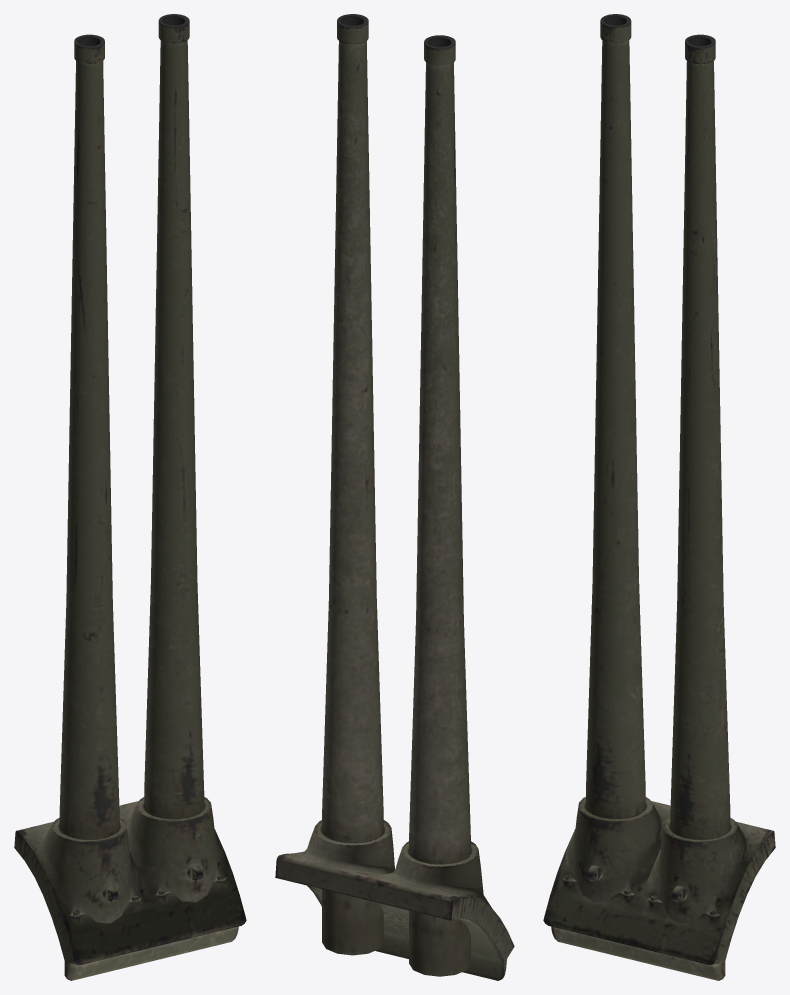
The model's file is Gun_04.glb.
3 renders of one model, left to right at view 1: azimuth 30°, elevation 25°; view 2: azimuth 150°, elevation 25°; view 3: azimuth 330°, elevation 25°, orthographic. The views are drawn at different scales.
Visible parts, largest first — view 1: set_0_group_0; view 2: set_0_group_0; view 3: set_0_group_0.
Part boxes in pixels (x1,y1,x2,y2): set_0_group_0: [14, 14, 246, 980]; set_0_group_0: [275, 14, 514, 980]; set_0_group_0: [543, 14, 775, 980].
Bounding box in the file's own units: 0.89 × 4.55 × 0.5516.
1 material, 1 textured.
